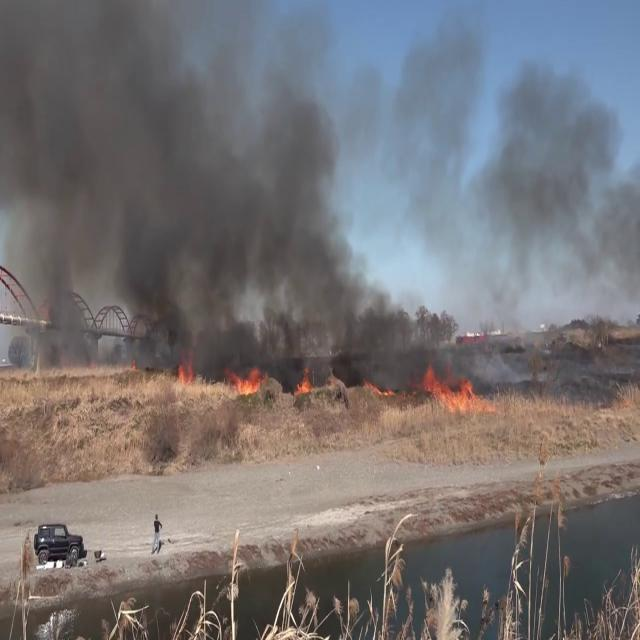Fire: (426, 368, 498, 416), (296, 357, 314, 398)
Smoke: (0, 0, 334, 362), (343, 20, 640, 358)
